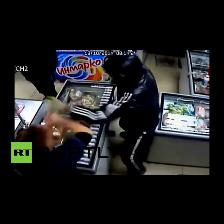person: (103, 54, 159, 174), (16, 113, 92, 174), (15, 50, 57, 96)
